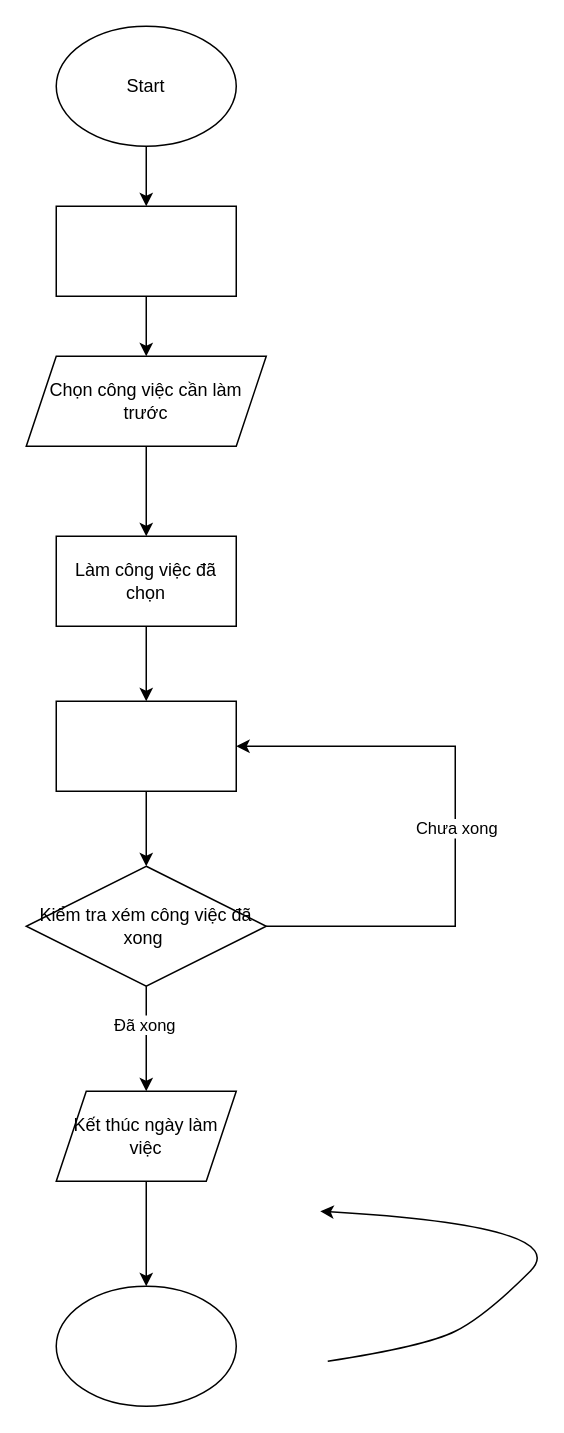
The diagram is 564 pixels wide and 1433 high, and some of its shapes have lost their labels. The shapes that lost their labels are listed below. From the top down, each one's centre as x and y in pixels, then its label:
At (145,250): "Liệt kê các công việc cần làm trong".
At (145,745): "Hoàn thành công việc đã".
At (145,1345): "End".
